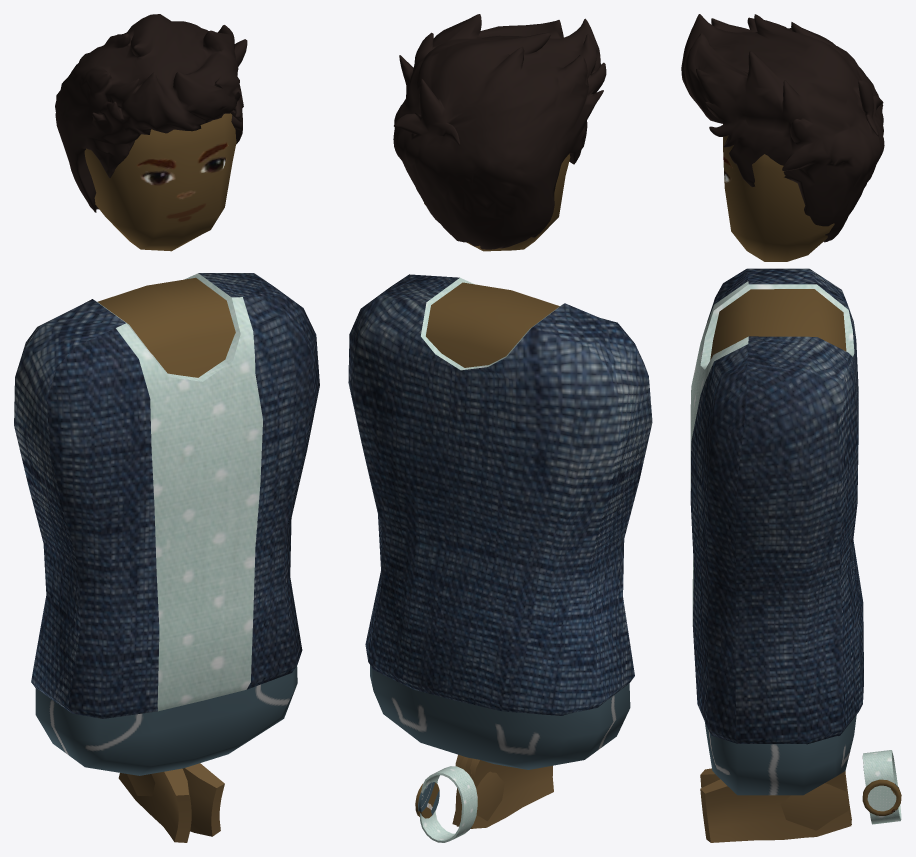
The model's file is Avatar3.fbx.
The picture shows the model from 3 angles, left to right: view 1: azimuth 30°, elevation 25°; view 2: azimuth 150°, elevation 25°; view 3: azimuth 270°, elevation 25°; orthographic projection. The views are drawn at different scales.
Parts seen in each view (by area): view 1: Body3, Hair3, Head3, HandL, HandR; view 2: Body3, Hair3, HandL, Watch, HandR, Head3; view 3: Body3, Hair3, Head3, HandR, Watch, HandL.
Boxes of the visible parts, left/top/right/bottom form: Body3: left=14, top=273, right=319, bottom=775; Hair3: left=55, top=14, right=247, bottom=212; Head3: left=84, top=113, right=236, bottom=251; HandL: left=118, top=768, right=191, bottom=842; HandR: left=127, top=763, right=224, bottom=836; Body3: left=348, top=274, right=652, bottom=769; Hair3: left=393, top=14, right=606, bottom=249; HandL: left=455, top=756, right=553, bottom=828; Watch: left=415, top=766, right=477, bottom=842; HandR: left=452, top=754, right=504, bottom=828; Head3: left=424, top=153, right=570, bottom=251; Body3: left=690, top=268, right=863, bottom=795; Hair3: left=681, top=14, right=884, bottom=242; Head3: left=723, top=124, right=834, bottom=261; HandR: left=700, top=771, right=851, bottom=842; Watch: left=862, top=750, right=901, bottom=824; HandL: left=700, top=768, right=851, bottom=837.
Size of the model in its own units: 46.46 by 130 by 32.21.
Materials: 4 (2 with a texture image).
